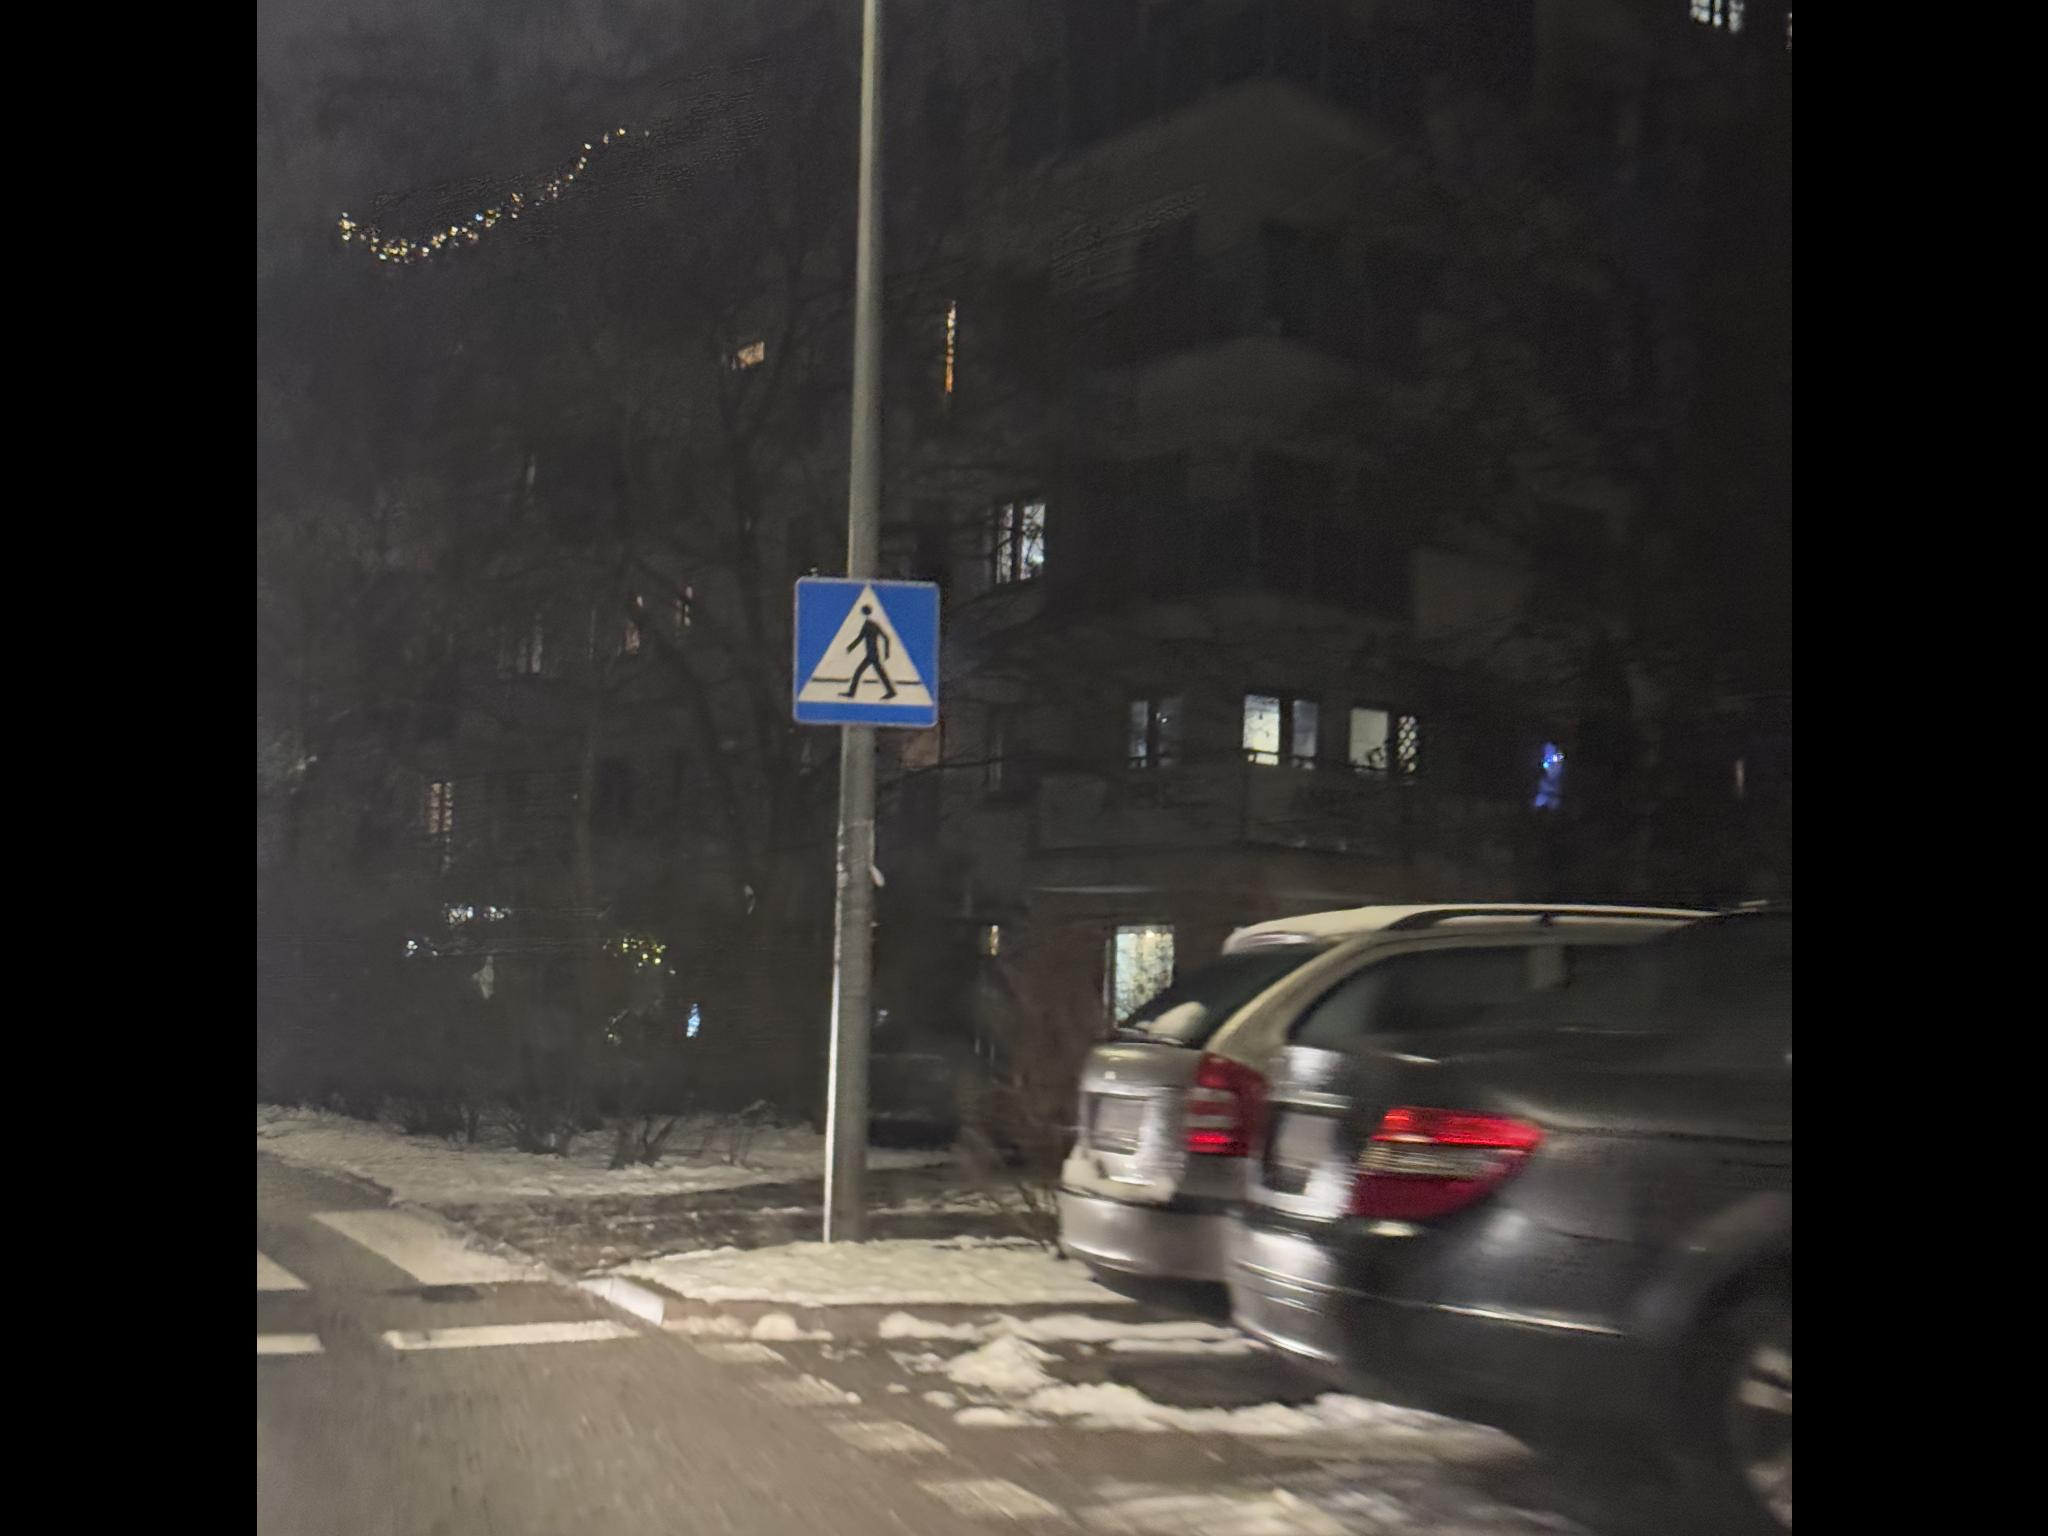information: (808, 278, 961, 429)
